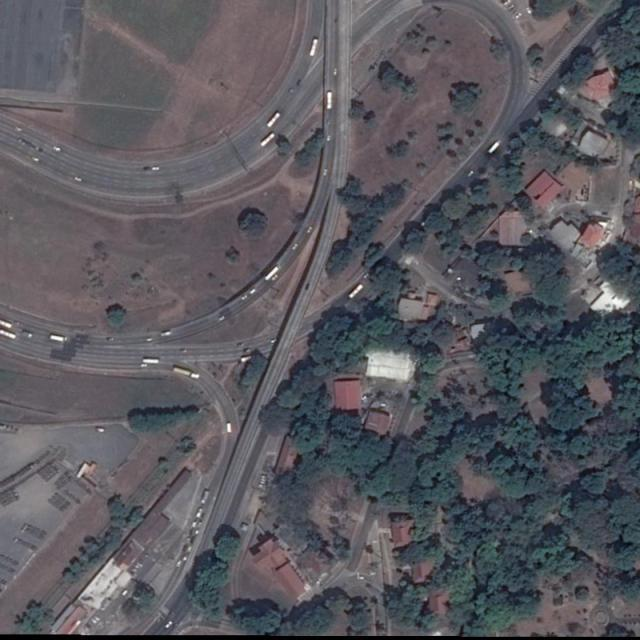vehicle: (174, 367, 200, 380), (266, 263, 281, 281), (349, 282, 363, 299), (488, 138, 502, 155), (267, 111, 280, 127), (261, 133, 275, 147), (1, 330, 16, 340), (310, 38, 318, 56), (50, 335, 67, 343), (201, 490, 210, 505), (142, 358, 159, 364), (1, 318, 11, 328), (160, 329, 174, 336), (21, 330, 33, 338), (327, 91, 332, 108), (226, 422, 232, 436), (165, 621, 174, 630), (249, 286, 257, 294), (218, 314, 226, 322), (196, 508, 202, 518), (53, 145, 61, 152), (18, 138, 25, 146), (31, 155, 39, 162), (175, 559, 182, 567), (182, 544, 188, 553), (186, 535, 191, 545), (271, 274, 278, 281), (242, 294, 249, 301), (244, 347, 251, 354), (74, 176, 82, 182), (332, 68, 338, 76), (182, 554, 188, 562), (322, 168, 327, 177), (189, 527, 194, 536), (526, 7, 532, 14), (515, 13, 522, 19), (190, 538, 195, 546), (238, 342, 244, 348), (198, 520, 202, 529), (194, 529, 198, 538), (15, 126, 22, 131), (292, 243, 297, 250), (191, 520, 196, 527), (152, 166, 160, 170), (326, 134, 330, 142), (179, 349, 187, 353), (307, 227, 312, 233), (107, 337, 114, 341)
